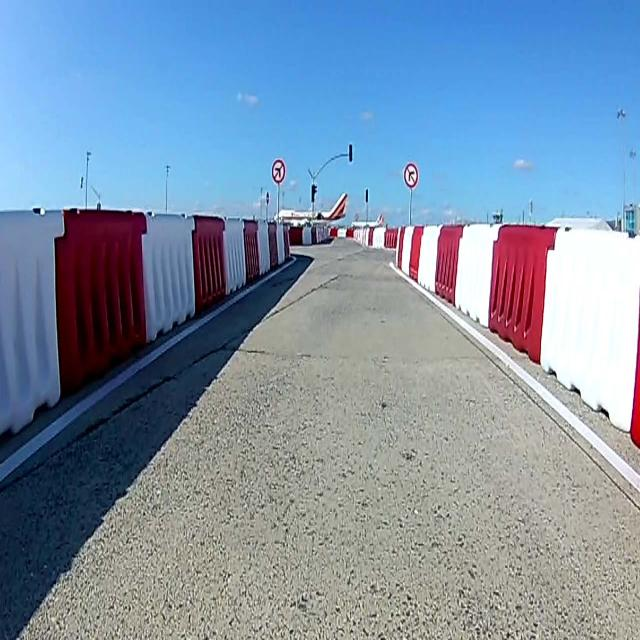sagadonulmez: (404, 162, 419, 188)
soladonulmez: (273, 160, 284, 180)
